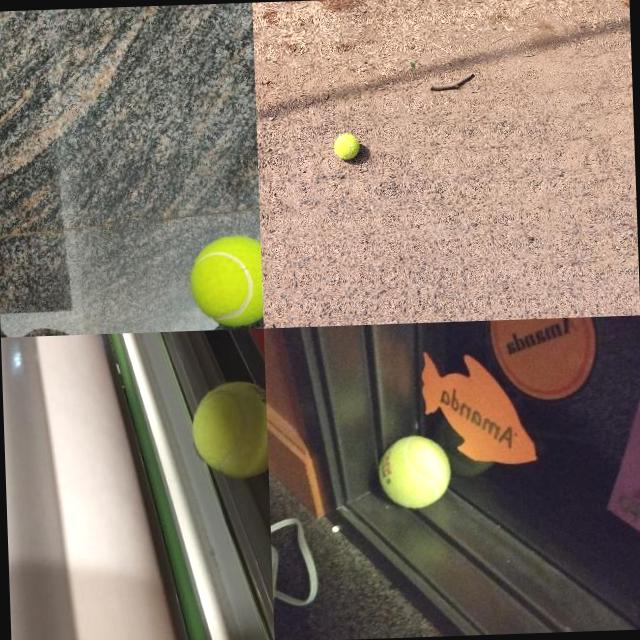Tennis Ball: (190, 379, 268, 481), (188, 234, 263, 328), (376, 434, 453, 511), (334, 134, 359, 160)
